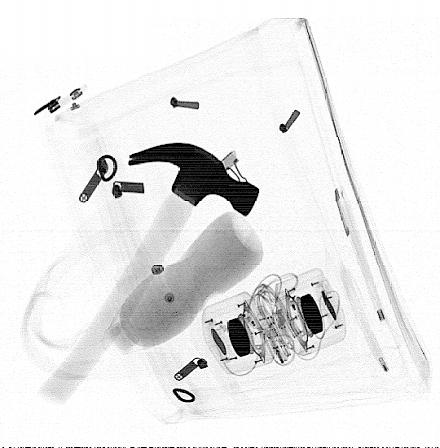Hammer: (38, 141, 259, 407)
